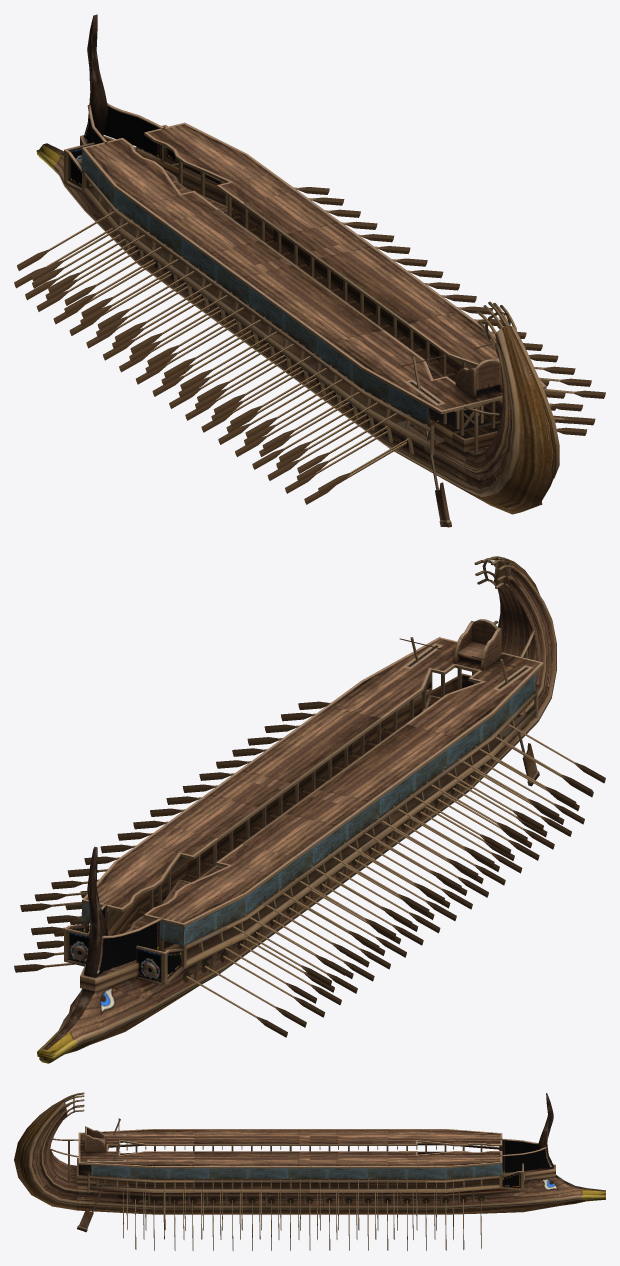
Rendered from athen_ship_ram.glb.
3 views of the same model, one above another, from view 1: azimuth 30°, elevation 25°; view 2: azimuth 150°, elevation 25°; view 3: azimuth 270°, elevation 25° (orthographic). The views are drawn at different scales.
Parts seen in each view (by area): view 1: athen_ship_ram_part0, athen_ship_ram_part111; view 2: athen_ship_ram_part0, athen_ship_ram_part111; view 3: athen_ship_ram_part0, athen_ship_ram_part111.
Part boxes in pixels (x1,y1,x2,y2): athen_ship_ram_part0: (36, 14, 559, 527); athen_ship_ram_part111: (81, 146, 429, 425); athen_ship_ram_part0: (37, 556, 556, 1063); athen_ship_ram_part111: (81, 674, 535, 945); athen_ship_ram_part0: (14, 1092, 605, 1232); athen_ship_ram_part111: (91, 1142, 502, 1178).
Bounding box in the file's own units: 2.51 × 1.65 × 7.
Materials: 2 (2 with a texture image).
